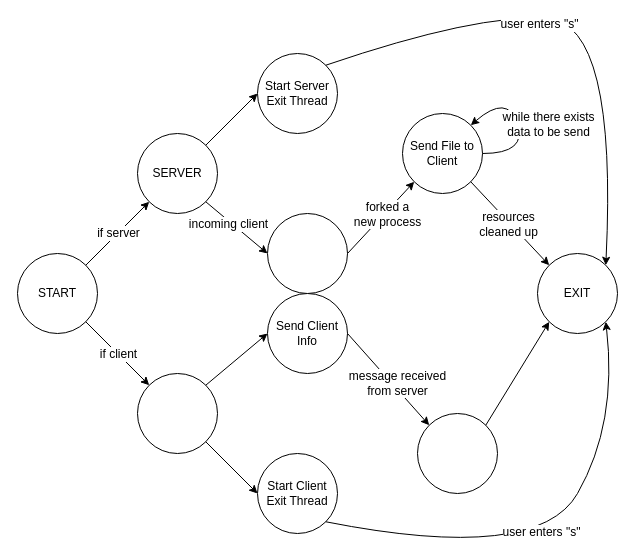
The diagram is 635 pixels wide and 557 high, and some of its shapes have lost their labels. The shapes that lost their labels are listed below. From the top down, each one's centre as x and y in pixels, then its label:
At point (307, 253): "Accept Client".
At point (177, 413): "CLIENT".
At point (457, 453): "Display Message".
